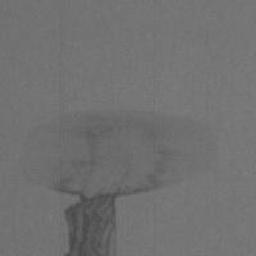Water spot: (20, 108, 219, 256)
